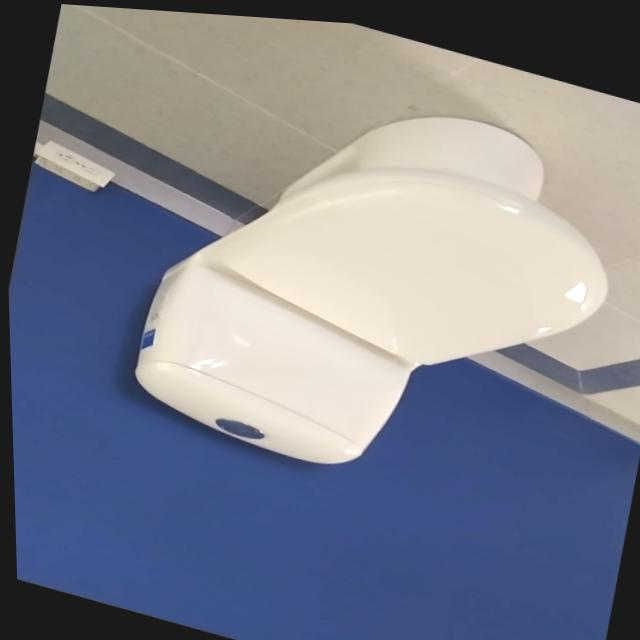toilet: (114, 35, 640, 531)
